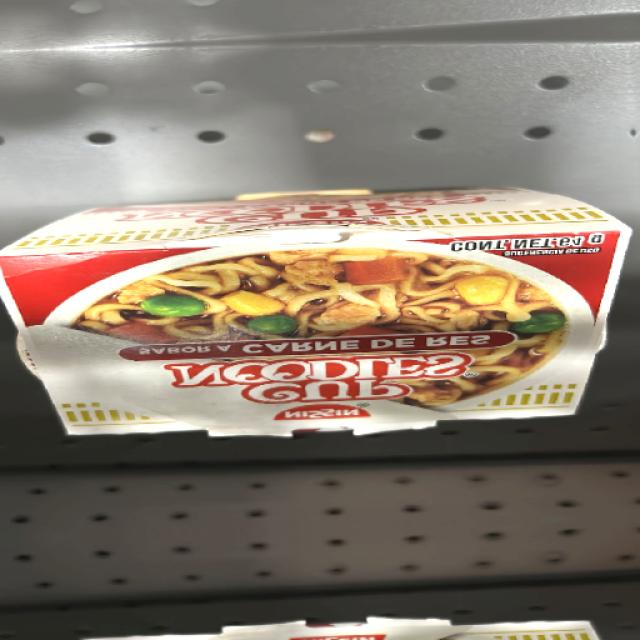nissinRes: (0, 208, 640, 428)
